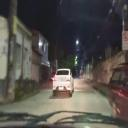NoEstacionar: (123, 30, 128, 42)
